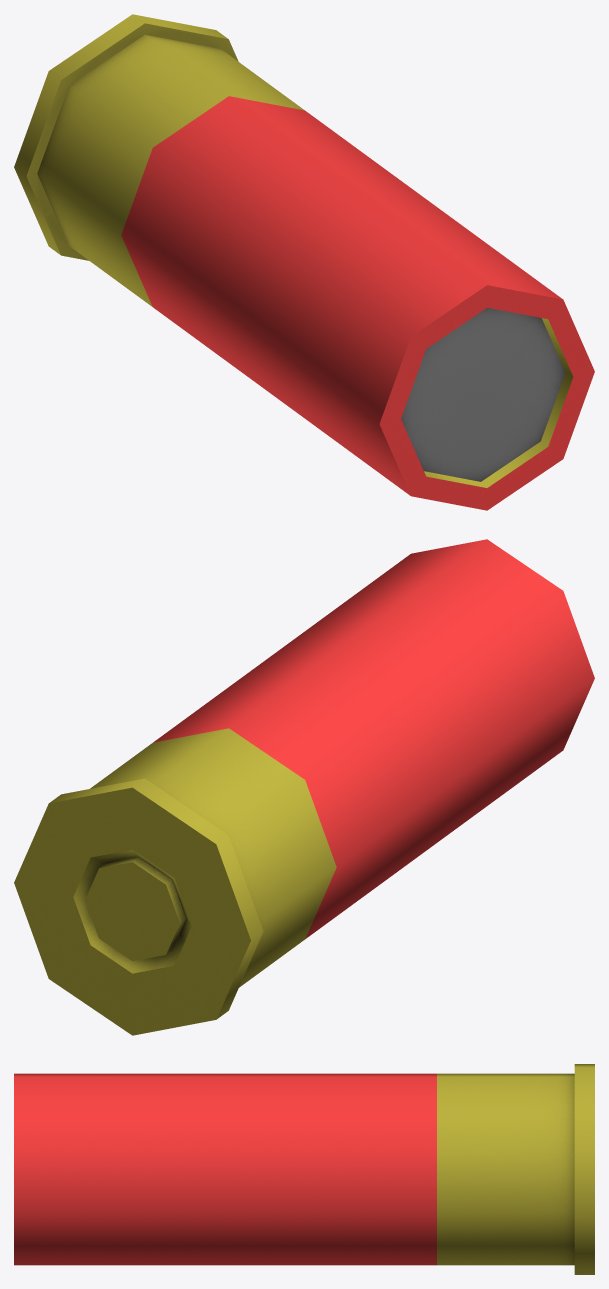
Rendered from shotgun_shell_large_low.fbx.
3 views of the same model, one above another, from view 1: azimuth 30°, elevation 25°; view 2: azimuth 150°, elevation 25°; view 3: azimuth 270°, elevation 25° (orthographic). The views are drawn at different scales.
Parts seen in each view (by area): view 1: shotgun_shell_large_low, shotgun_shell_large_powder_low; view 2: shotgun_shell_large_low; view 3: shotgun_shell_large_low.
Part boxes in pixels (x1=…): shotgun_shell_large_low: x1=14, y1=14, x2=594, y2=510; shotgun_shell_large_powder_low: x1=401, y1=307, x2=565, y2=481; shotgun_shell_large_low: x1=14, y1=539, x2=594, y2=1035; shotgun_shell_large_low: x1=14, y1=1064, x2=594, y2=1274.
Bounding box in the file's own units: 5.5 × 5.5 × 14.25.
